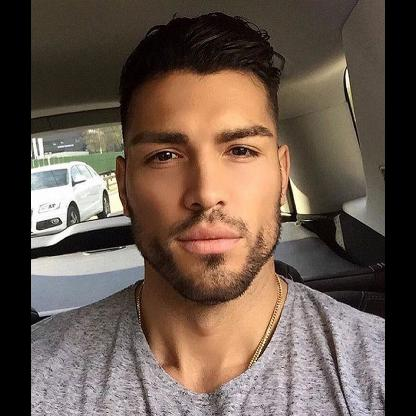Male: (114, 67, 288, 302)
